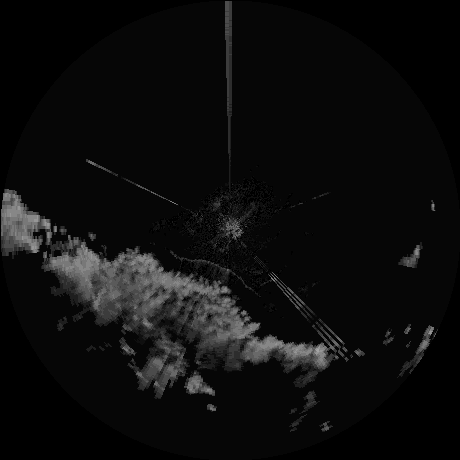frontgust: (169, 249, 255, 291)
